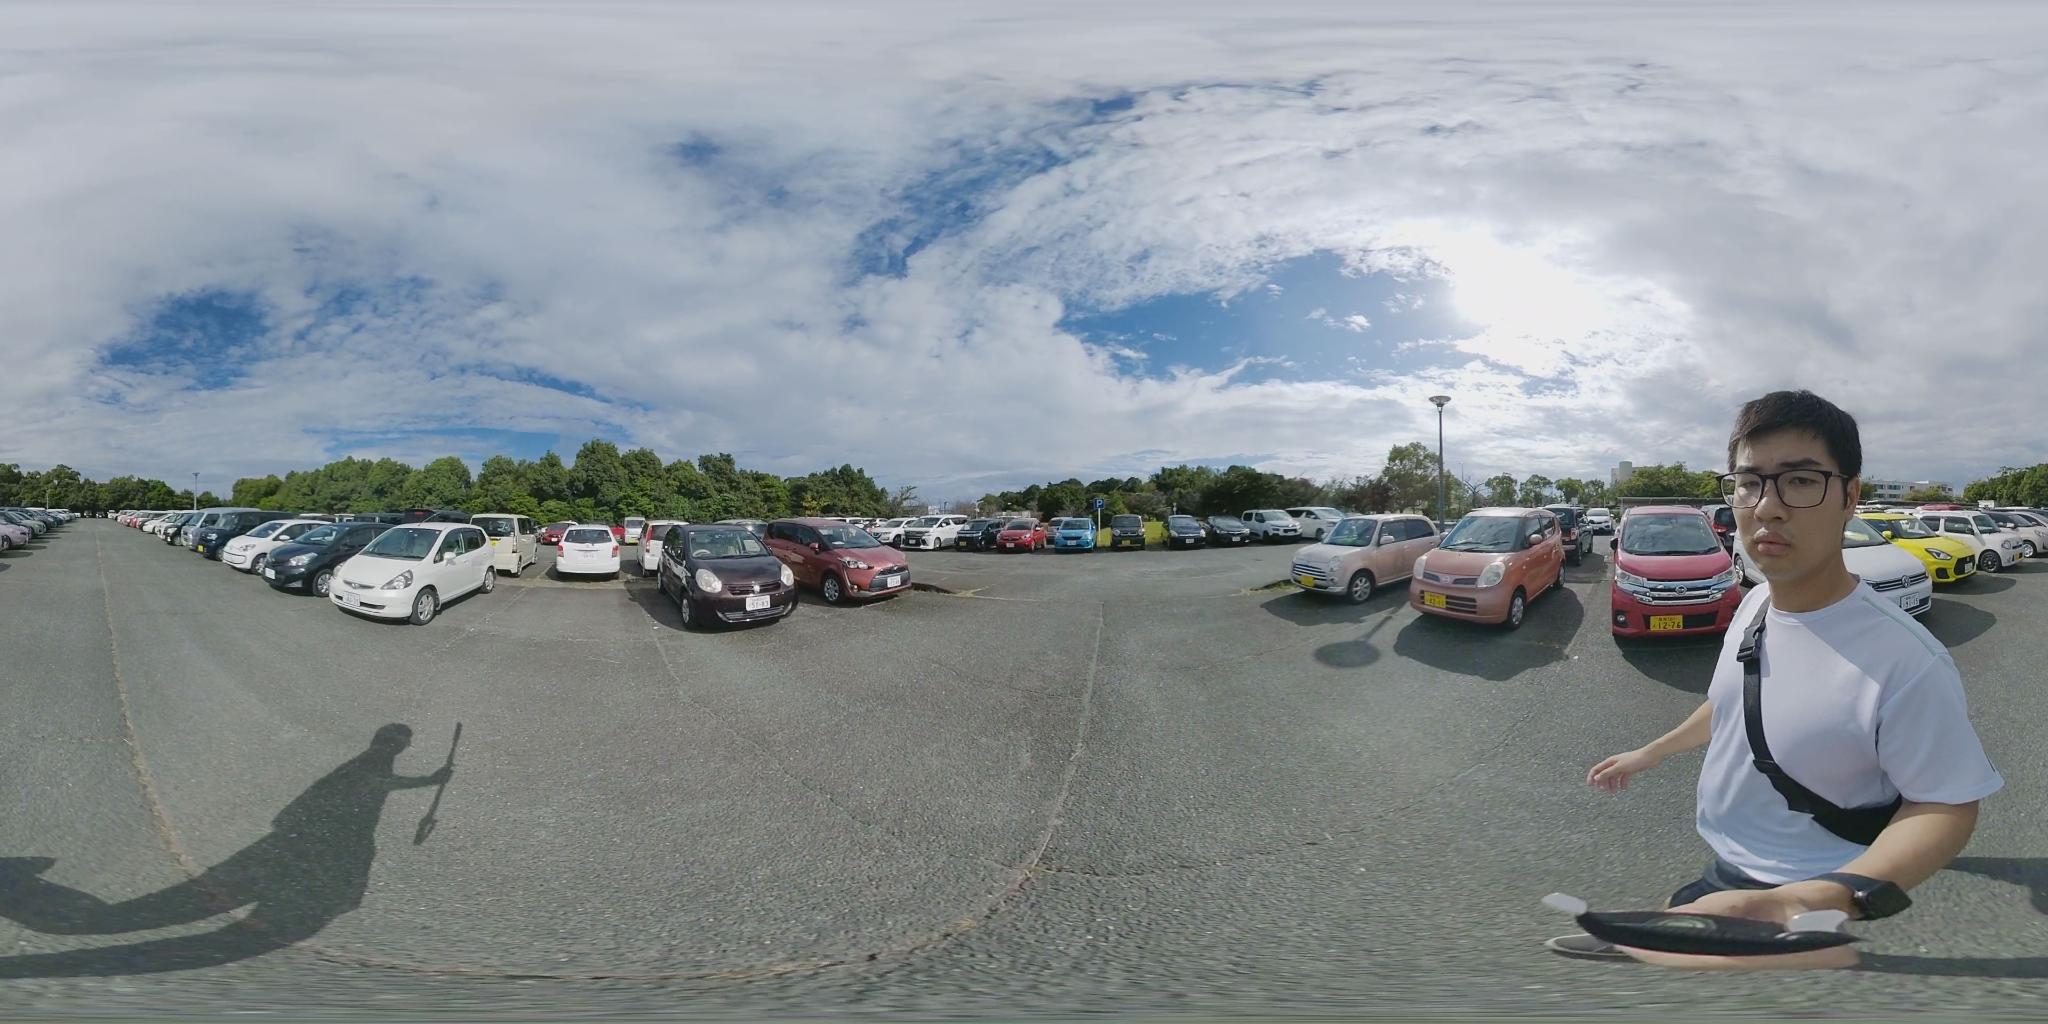car: (1663, 505, 1946, 626), (1404, 513, 1582, 627), (320, 524, 509, 628), (1609, 502, 1745, 628), (645, 525, 797, 633), (1289, 517, 1446, 601), (242, 521, 391, 589), (1882, 509, 2027, 576), (222, 520, 329, 571), (193, 512, 300, 560), (538, 522, 626, 579), (1979, 508, 2047, 566), (1240, 508, 1347, 542), (182, 512, 256, 556), (888, 519, 974, 551), (991, 521, 1049, 551), (1051, 519, 1101, 551), (149, 516, 200, 545), (1206, 517, 1254, 545), (0, 513, 34, 550), (1170, 519, 1206, 549), (1579, 509, 1621, 533), (30, 507, 78, 525)
